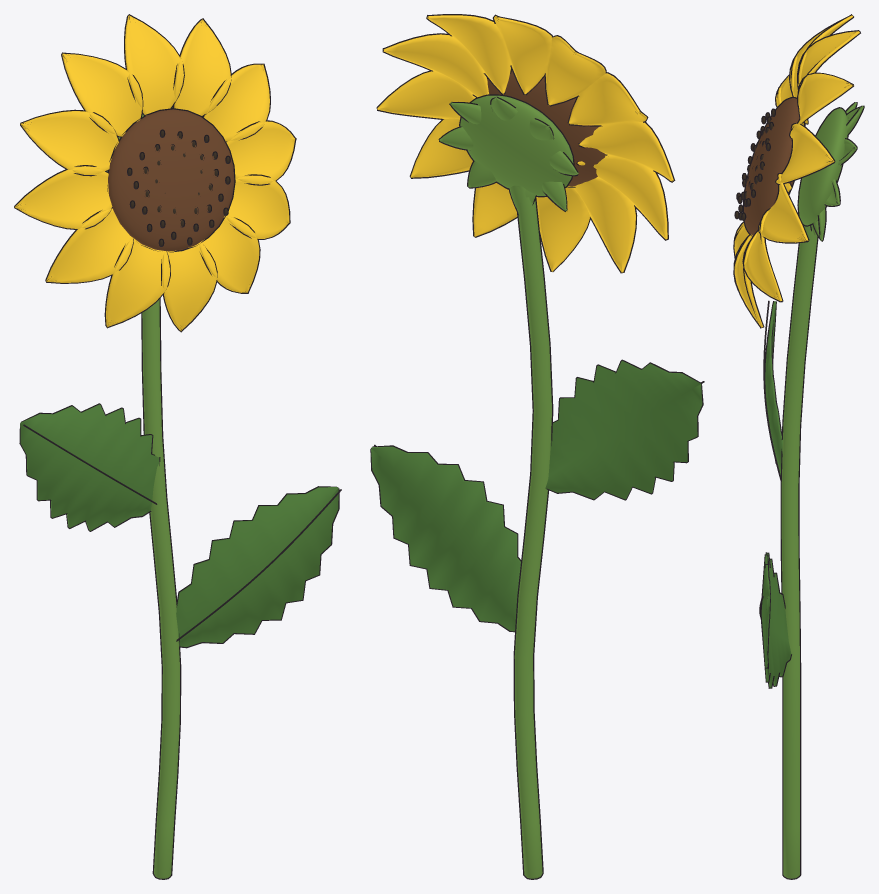
File: sunflower_toon.glb
3 views of the same model, side by side, from view 1: azimuth 30°, elevation 25°; view 2: azimuth 150°, elevation 25°; view 3: azimuth 270°, elevation 25° (orthographic). The views are drawn at different scales.
Visible parts, largest first — view 1: sunflower_Geometry; view 2: sunflower_Geometry; view 3: sunflower_Geometry.
Boxes of the visible parts, bbox=[...] form: sunflower_Geometry: bbox=[14, 14, 341, 879]; sunflower_Geometry: bbox=[370, 14, 704, 879]; sunflower_Geometry: bbox=[733, 14, 864, 879].
Bounding box in the file's own units: 0.2104 × 0.534 × 0.075.
